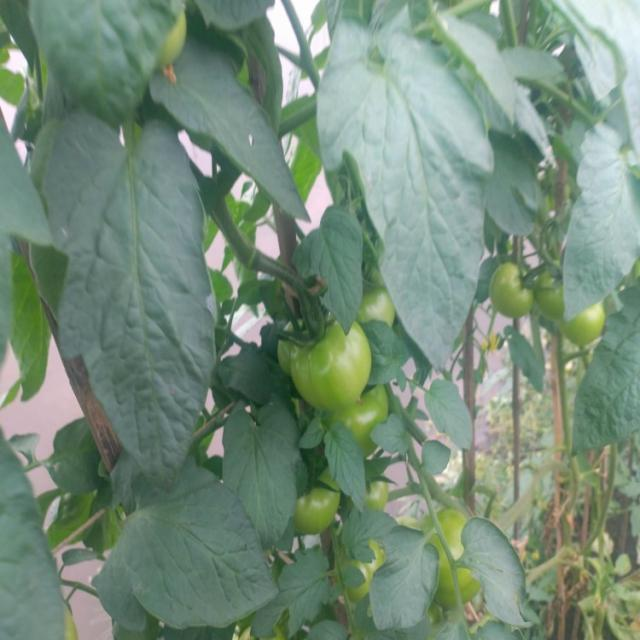tomato: (419, 510, 489, 615), (297, 321, 371, 407), (338, 382, 391, 448), (290, 474, 346, 535), (345, 513, 388, 590), (158, 12, 198, 75), (492, 266, 538, 319), (564, 305, 607, 348), (272, 316, 303, 371), (540, 262, 571, 315), (361, 290, 400, 327), (370, 478, 398, 513)
